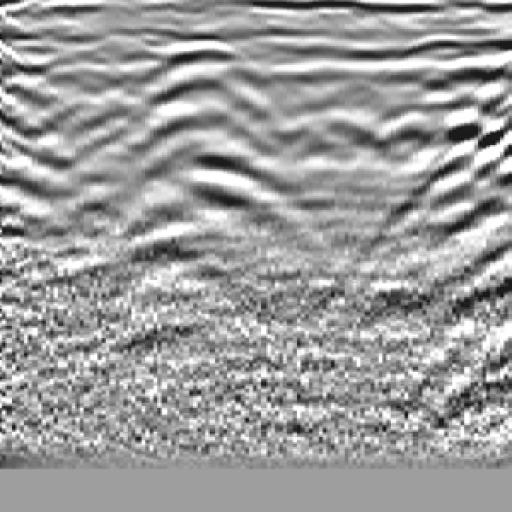metalic: (132, 31, 307, 286)
nonmetalic: (390, 37, 512, 285)
